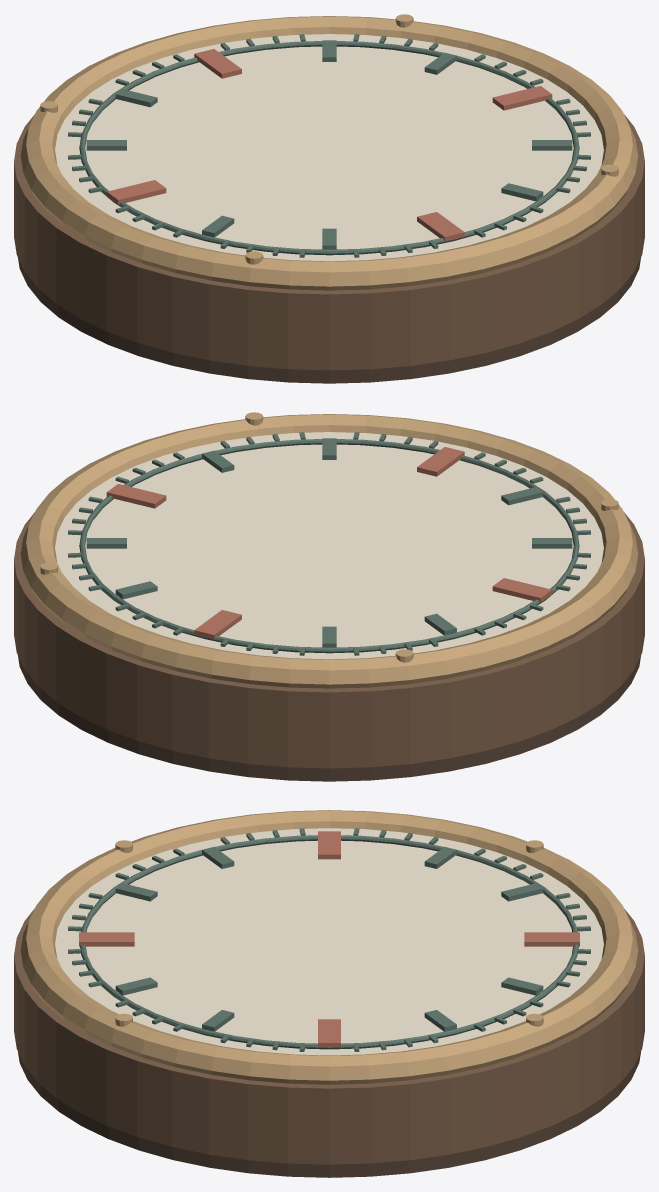
File: park_kitchen_wall_clock.glb
The picture shows the model from 3 angles, top to bottom: view 1: azimuth 30°, elevation 25°; view 2: azimuth 150°, elevation 25°; view 3: azimuth 270°, elevation 25°; orthographic projection.
Visible parts, largest first — view 1: inset_enamel_face, rounded_clock_body, continuous_brass_bezel, solid_wooden_back, fine_inner_dial_line, hour_mark_03, hour_mark_09, hour_mark_00, hour_mark_06; view 2: inset_enamel_face, rounded_clock_body, continuous_brass_bezel, solid_wooden_back, fine_inner_dial_line, hour_mark_03, hour_mark_09, hour_mark_06, hour_mark_00; view 3: inset_enamel_face, rounded_clock_body, continuous_brass_bezel, solid_wooden_back, fine_inner_dial_line, hour_mark_00, hour_mark_06, hour_mark_03, hour_mark_09.
Boxes of the visible parts, x1,y1,x2,y2 form: inset_enamel_face: [55, 34, 603, 261]; rounded_clock_body: [14, 114, 644, 370]; continuous_brass_bezel: [20, 16, 638, 290]; solid_wooden_back: [18, 258, 640, 383]; fine_inner_dial_line: [79, 41, 579, 255]; hour_mark_03: [492, 86, 552, 110]; hour_mark_09: [106, 180, 166, 204]; hour_mark_00: [194, 49, 241, 78]; hour_mark_06: [417, 212, 464, 241]; inset_enamel_face: [55, 432, 603, 659]; rounded_clock_body: [14, 512, 644, 768]; continuous_brass_bezel: [20, 414, 638, 688]; solid_wooden_back: [18, 656, 640, 781]; fine_inner_dial_line: [79, 439, 579, 653]; hour_mark_03: [106, 484, 166, 508]; hour_mark_09: [492, 578, 552, 602]; hour_mark_06: [417, 447, 464, 476]; hour_mark_00: [194, 610, 241, 639]; inset_enamel_face: [55, 828, 603, 1055]; rounded_clock_body: [14, 908, 644, 1164]; continuous_brass_bezel: [20, 810, 638, 1084]; solid_wooden_back: [18, 1052, 640, 1177]; fine_inner_dial_line: [80, 835, 578, 1049]; hour_mark_00: [524, 932, 579, 946]; hour_mark_06: [79, 932, 134, 946]; hour_mark_03: [318, 1019, 340, 1047]; hour_mark_09: [318, 831, 340, 859].
Size of the model in its own units: 0.85 by 0.171 by 0.85.
